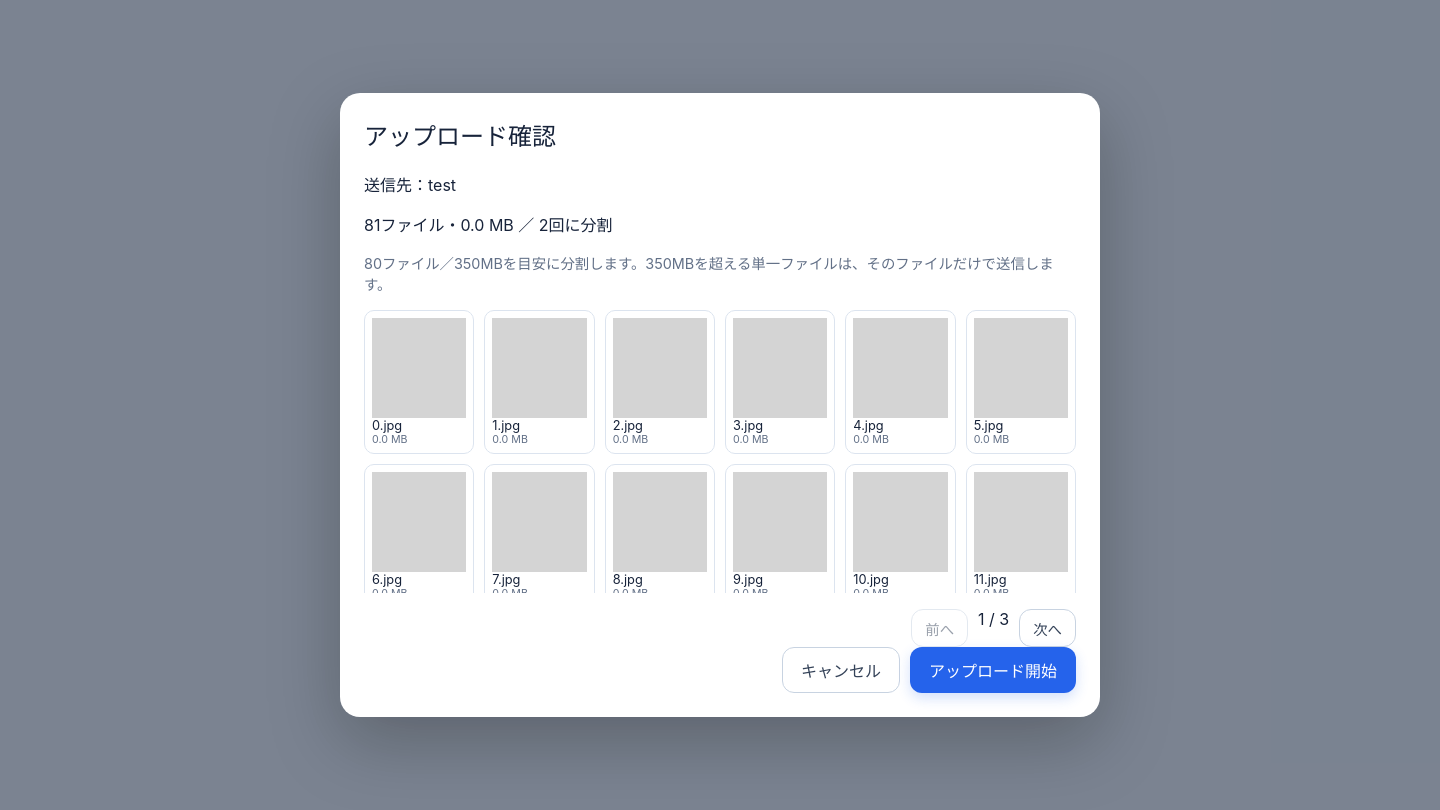
album upload confirmation › stops on failure and does not resend saved batches
Click the button "アップロード開始" at [993, 670], box [910, 647, 1076, 693]
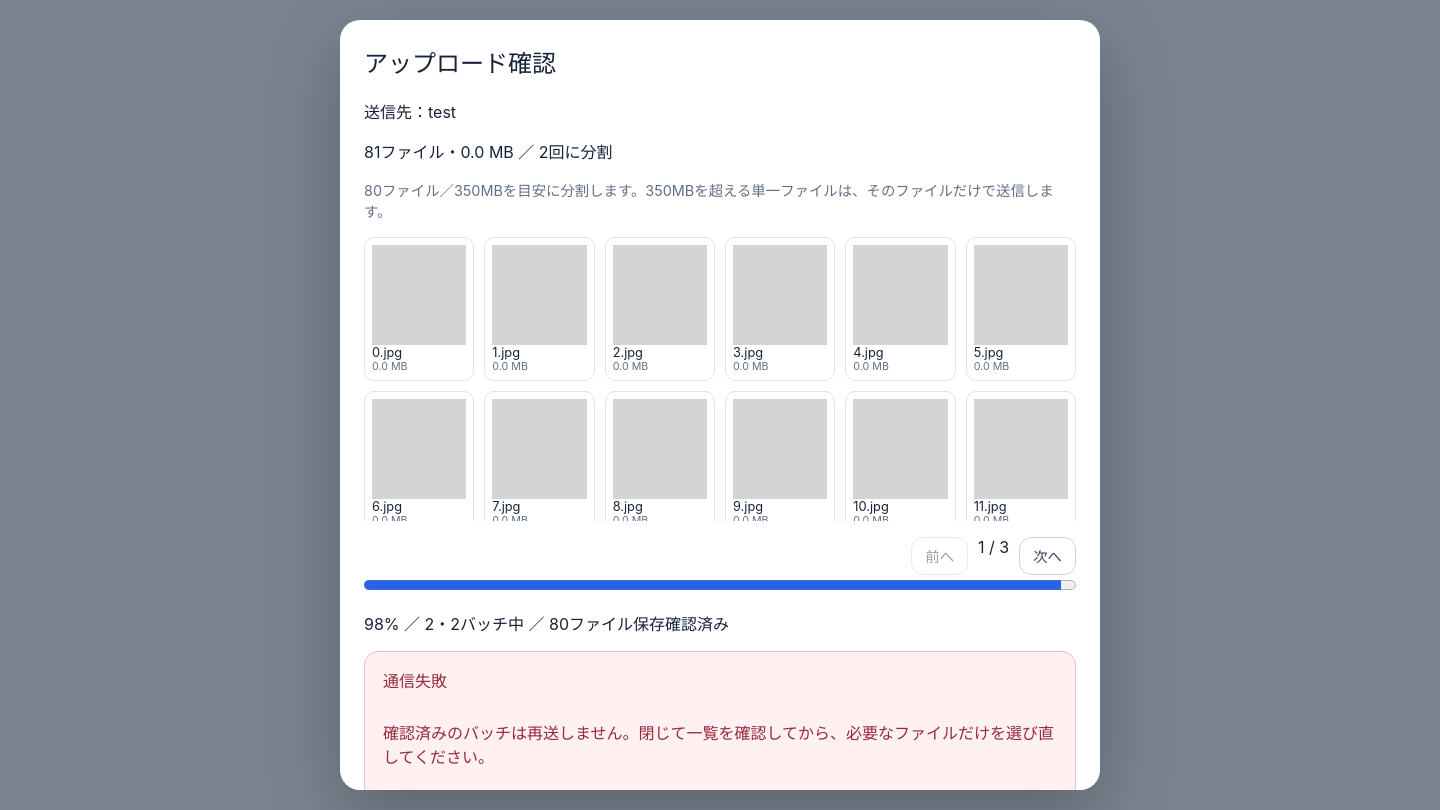
Now the text "80ファイル保存確認済み" is shown, box [364, 614, 729, 634]
Now the text "通信失敗" is shown, box [383, 671, 447, 691]
Now the text "アップロード開始" is gone
